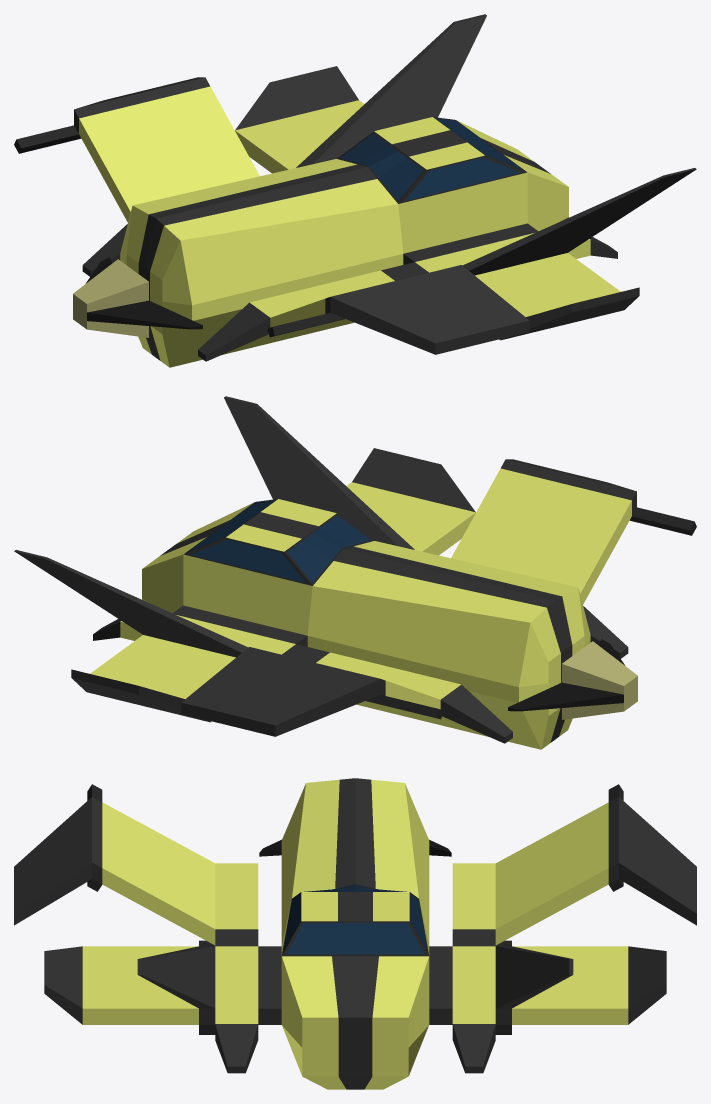
Rendered from BumbleBee.fbx.
3 renders of one model, top to bottom at view 1: azimuth 30°, elevation 25°; view 2: azimuth 150°, elevation 25°; view 3: azimuth 270°, elevation 25°, orthographic. The views are drawn at different scales.
Parts seen in each view (by area): view 1: Cube, Cube.001; view 2: Cube, Cube.001; view 3: Cube, Cube.001.
Boxes of the visible parts, x1,y1,x2,y2 form: Cube: (14,14,696,367); Cube.001: (73,257,202,337); Cube: (14,396,696,749); Cube.001: (508,639,637,719); Cube: (14,778,696,1089); Cube.001: (259,839,451,856).
Size of the model in its own units: 823 by 247 by 926.
